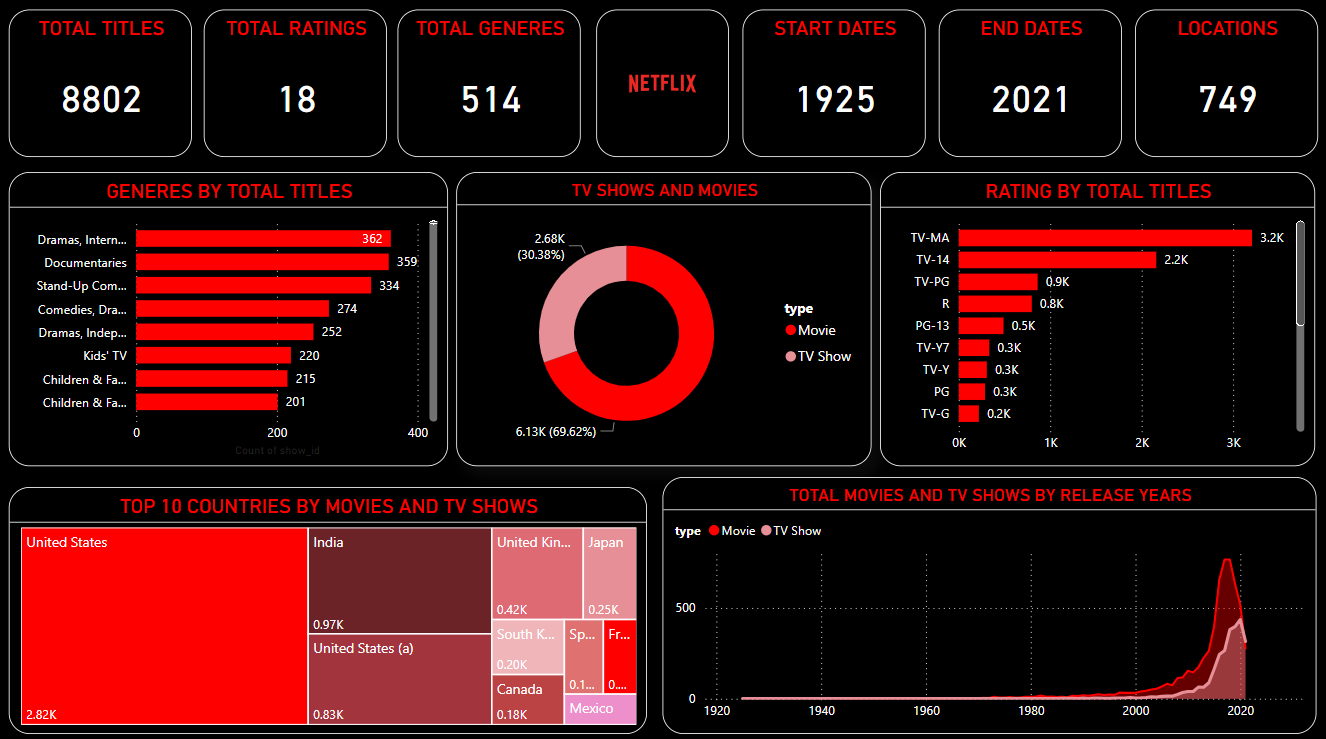

The dashboard page shown, as its layout file describes it:
{"tool":"powerbi","page":{"name":"Page 1","canvas":[1280,720],"ordinal":0},"visuals":[{"type":"donutChart","title":"TV SHOWS AND MOVIES","fields":{"Y":["CountNonNull(netflix_titles.show_id)"],"Category":["netflix_titles.type"]},"box":[440.5,168.8,400.7,284],"z":0},{"type":"barChart","title":"RATING BY TOTAL TITLES","fields":{"Category":["netflix_titles.rating"],"Y":["Count(netflix_titles.show_id)"]},"box":[849.4,168.8,419.9,284],"z":1000},{"type":"barChart","title":"GENERES BY TOTAL TITLES","fields":{"Category":["netflix_titles.listed_in"],"Y":["Count(netflix_titles.show_id)"]},"box":[8.2,168.8,424,284],"z":2000},{"type":"areaChart","title":"TOTAL MOVIES AND TV SHOWS BY RELEASE YEARS","fields":{"Category":["netflix_titles.release_year"],"Y":["Count(netflix_titles.show_id)"],"Series":["netflix_titles.type"]},"box":[639.5,463.8,631.2,248.4],"z":3000},{"type":"treemap","title":"TOP 10 COUNTRIES BY MOVIES AND TV SHOWS","fields":{"Group":["netflix_titles.country"],"Values":["Count(netflix_titles.show_id)"]},"box":[8.2,473.4,616.1,238.8],"z":4000},{"type":"image","box":[575,12.3,127.6,142.7],"z":5000},{"type":"card","title":"END DATES","fields":{"Values":["Max(netflix_titles.release_year)"]},"box":[905.7,12.3,177,142.7],"z":6000},{"type":"card","title":"LOCATIONS","fields":{"Values":["Count(netflix_titles.country)"]},"box":[1095,12.3,177,142.7],"z":7000},{"type":"card","title":"START DATES","fields":{"Values":["Min(netflix_titles.release_year)"]},"box":[716.3,12.3,177,142.7],"z":8000},{"type":"card","title":"TOTAL GENERES","fields":{"Values":["Count(netflix_titles.listed_in)"]},"box":[384.2,12.3,177,142.7],"z":9000},{"type":"card","title":"TOTAL RATINGS","fields":{"Values":["Count(netflix_titles.rating)"]},"box":[196.2,12.3,177,142.7],"z":9001},{"type":"card","title":"TOTAL TITLES","fields":{"Values":["Count(netflix_titles.title)"]},"box":[8.2,12.3,177,142.7],"z":9002}]}

Visuals, with their boxes in screenshot pixels (x1, y1, x2, y2), scaled from the page's 1280x720 canvas onto the 1326x739 screenshot:
"TV SHOWS AND MOVIES" donutChart: 456, 173, 871, 465
"RATING BY TOTAL TITLES" barChart: 880, 173, 1315, 465
"GENERES BY TOTAL TITLES" barChart: 8, 173, 448, 465
"TOTAL MOVIES AND TV SHOWS BY RELEASE YEARS" areaChart: 662, 476, 1316, 731
"TOP 10 COUNTRIES BY MOVIES AND TV SHOWS" treemap: 8, 486, 647, 731
image: 596, 13, 728, 159
"END DATES" card: 938, 13, 1122, 159
"LOCATIONS" card: 1134, 13, 1318, 159
"START DATES" card: 742, 13, 925, 159
"TOTAL GENERES" card: 398, 13, 581, 159
"TOTAL RATINGS" card: 203, 13, 387, 159
"TOTAL TITLES" card: 8, 13, 192, 159
